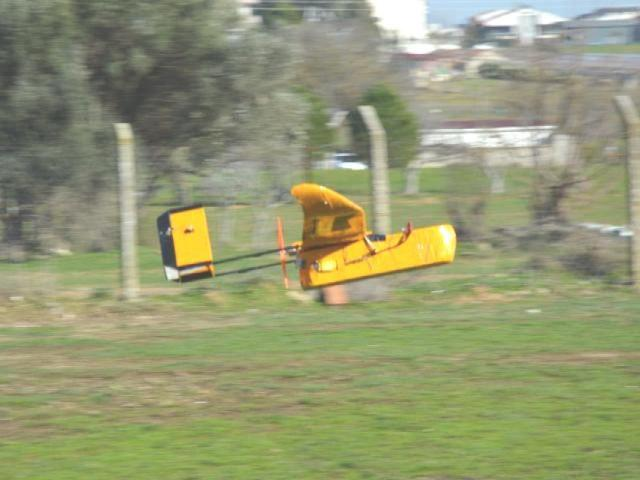iha: (136, 179, 468, 312)
